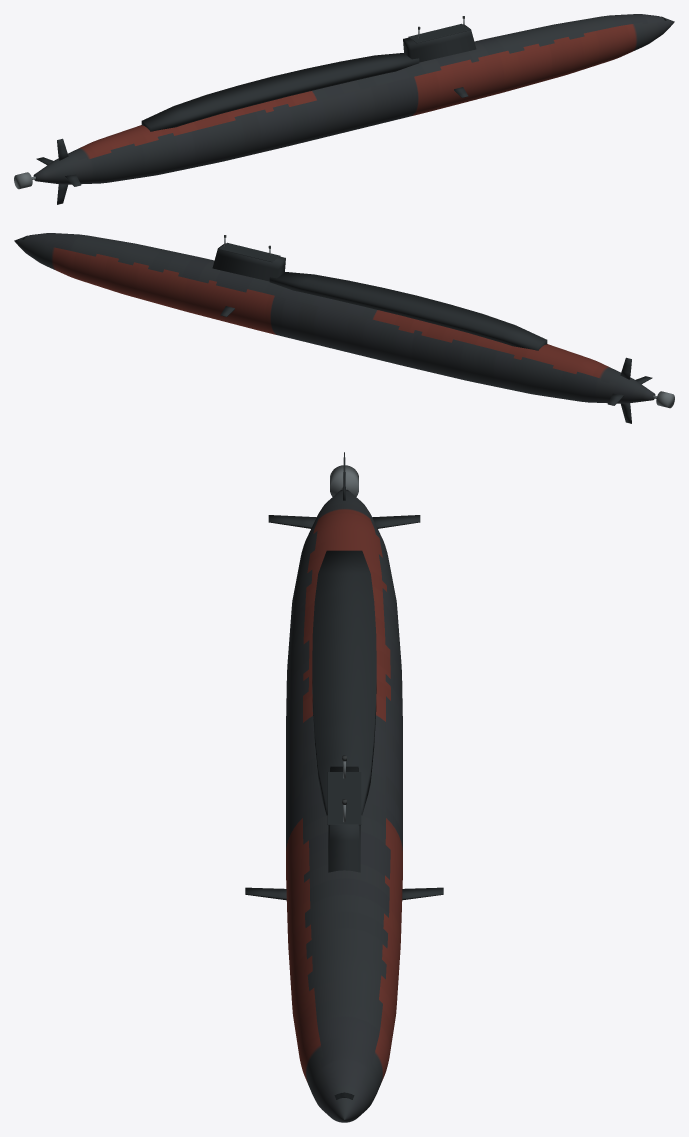
File: RU_SSBN_BoreiA.glb
3 renders of one model, top to bottom at view 1: azimuth 30°, elevation 25°; view 2: azimuth 150°, elevation 25°; view 3: azimuth 270°, elevation 25°, orthographic. The views are drawn at different scales.
Parts seen in each view (by area): view 1: RU_SSBN_BoreiA_LOD0; view 2: RU_SSBN_BoreiA_LOD0; view 3: RU_SSBN_BoreiA_LOD0.
Boxes of the visible parts, box(x1,y1,x2,y2) form: RU_SSBN_BoreiA_LOD0: box(14, 14, 674, 204); RU_SSBN_BoreiA_LOD0: box(14, 233, 674, 423); RU_SSBN_BoreiA_LOD0: box(245, 452, 443, 1122).
Bounding box in the file's own units: 175 × 22.67 × 22.8.
Materials: 6 (1 with a texture image).
